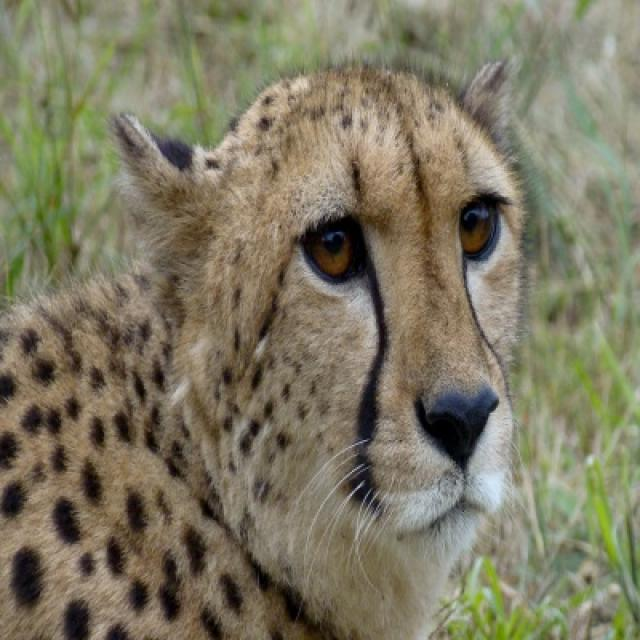Cheetah: (1, 50, 541, 638)
